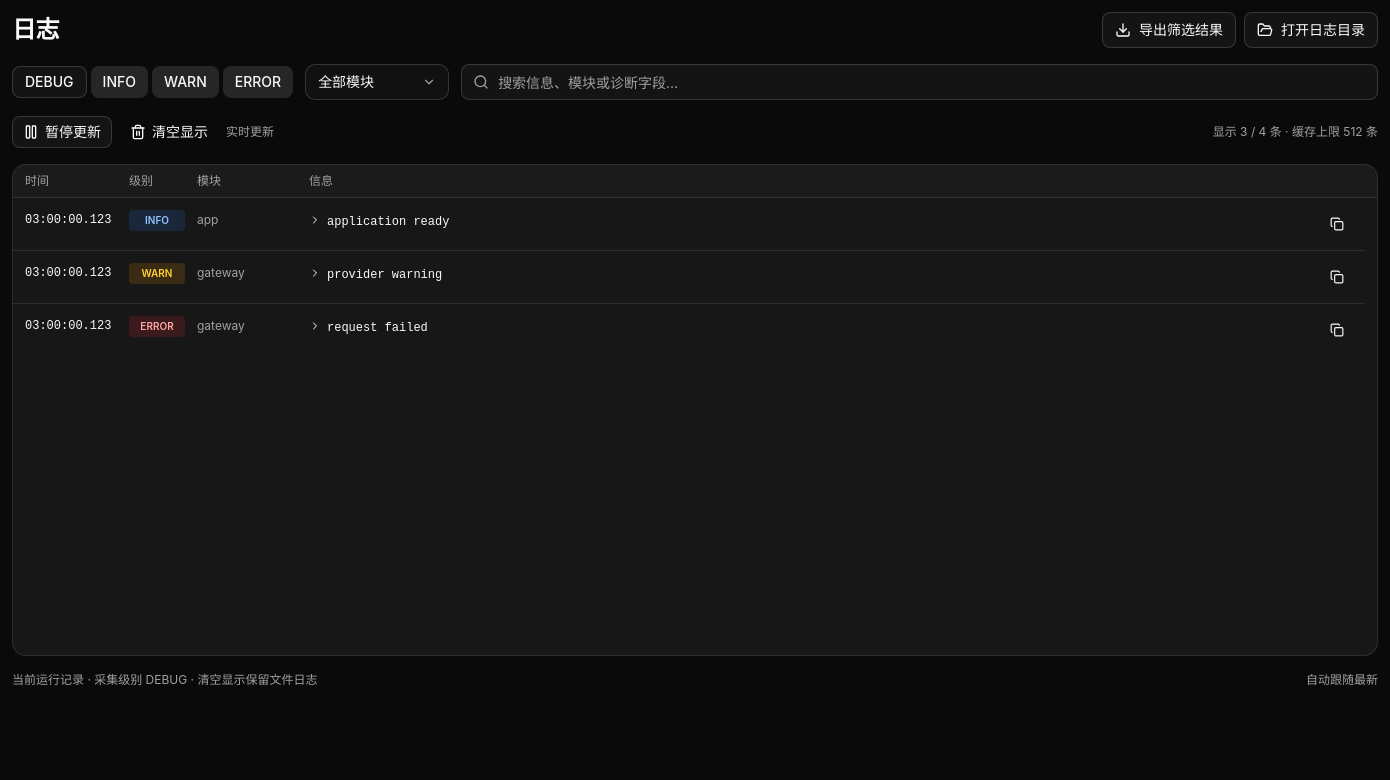
Test: 实时日志页面 › 暂停保留当前视图，提示新增数量并在继续时补齐
Expected: the text "application ready" is shown, [327, 212, 449, 232]
Click the button "暂停更新".
click(62, 132)  # box [12, 116, 112, 148]
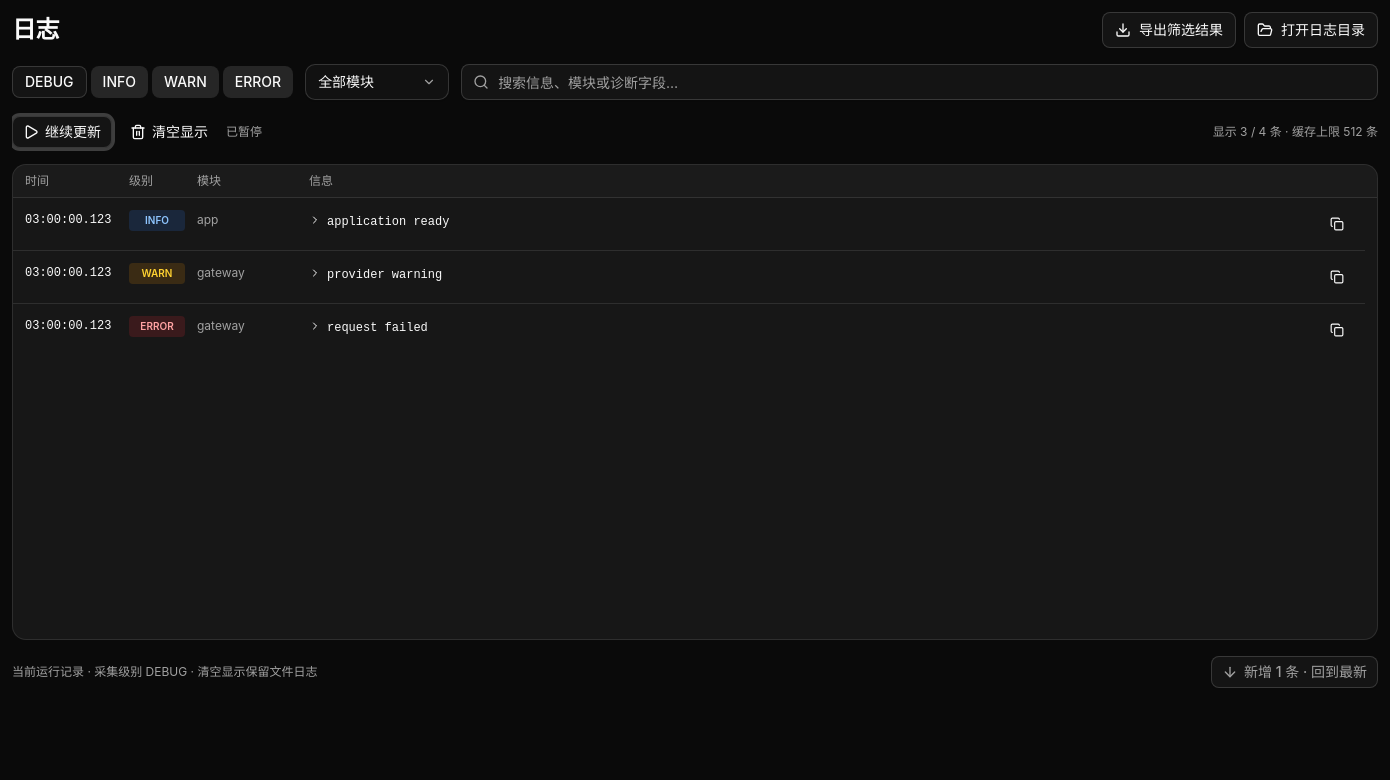
Expected: the text "after pause" is not shown
Expected: the button "新增 1 条 · 回到最新" is shown, [1211, 656, 1378, 688]
Click the button "继续更新".
click(62, 132)  # box [12, 116, 112, 148]
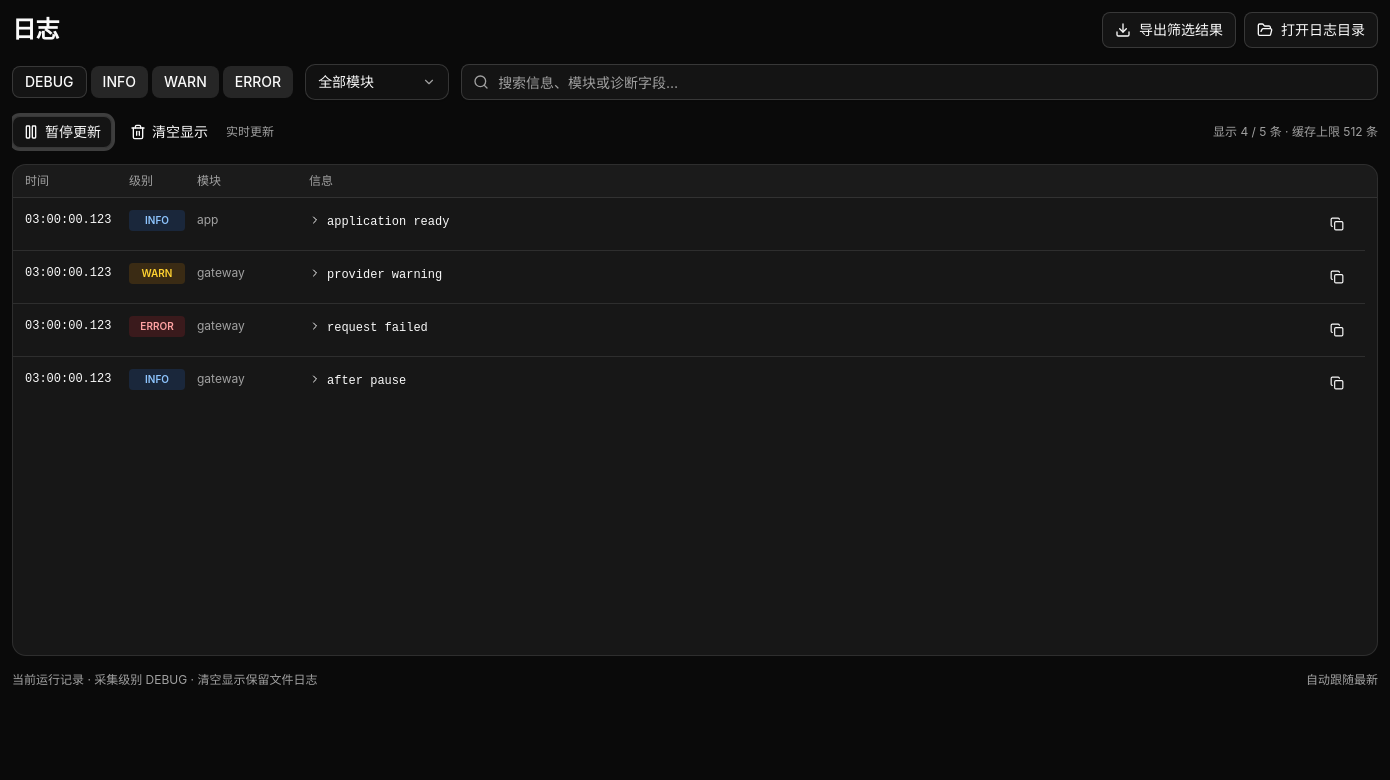
Expected: the text "after pause" is shown, [327, 371, 406, 391]
